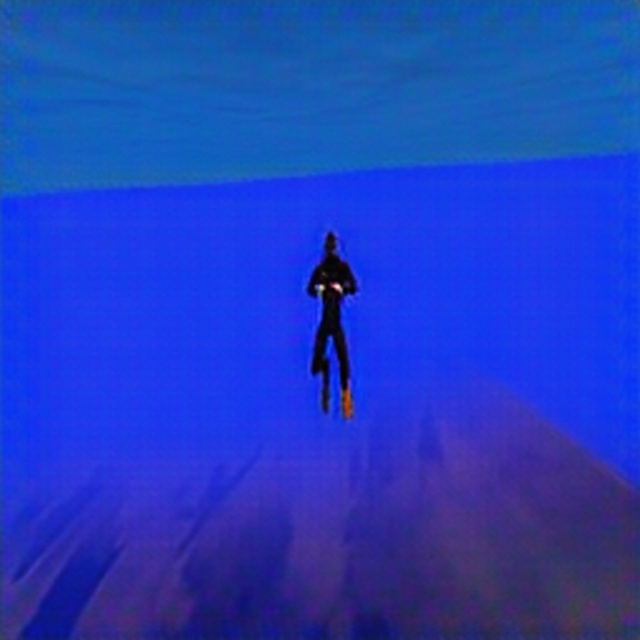diver: (305, 227, 362, 432)
